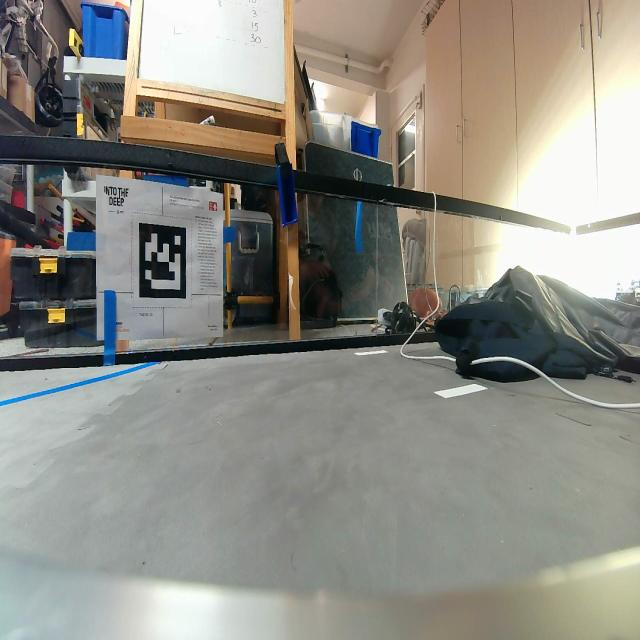specimen_block_blue: (276, 158, 302, 232)
